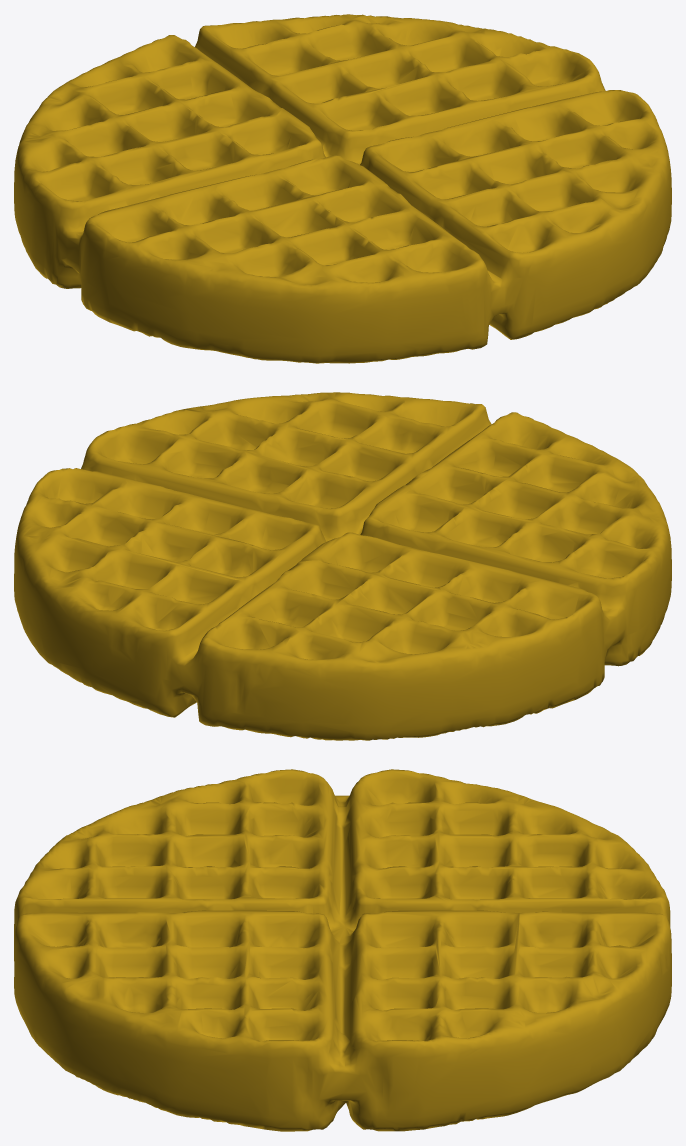
Rendered from waffle.fbx.
The picture shows the model from 3 angles, top to bottom: view 1: azimuth 30°, elevation 25°; view 2: azimuth 150°, elevation 25°; view 3: azimuth 270°, elevation 25°; orthographic projection. The views are drawn at different scales.
Visible parts, largest first — view 1: waffle; view 2: waffle; view 3: waffle.
Boxes of the visible parts, bbox=[...] form: waffle: bbox=[14, 14, 671, 363]; waffle: bbox=[14, 392, 671, 740]; waffle: bbox=[14, 769, 671, 1131].
Size of the model in its own units: 20.34 by 3.09 by 20.37.
